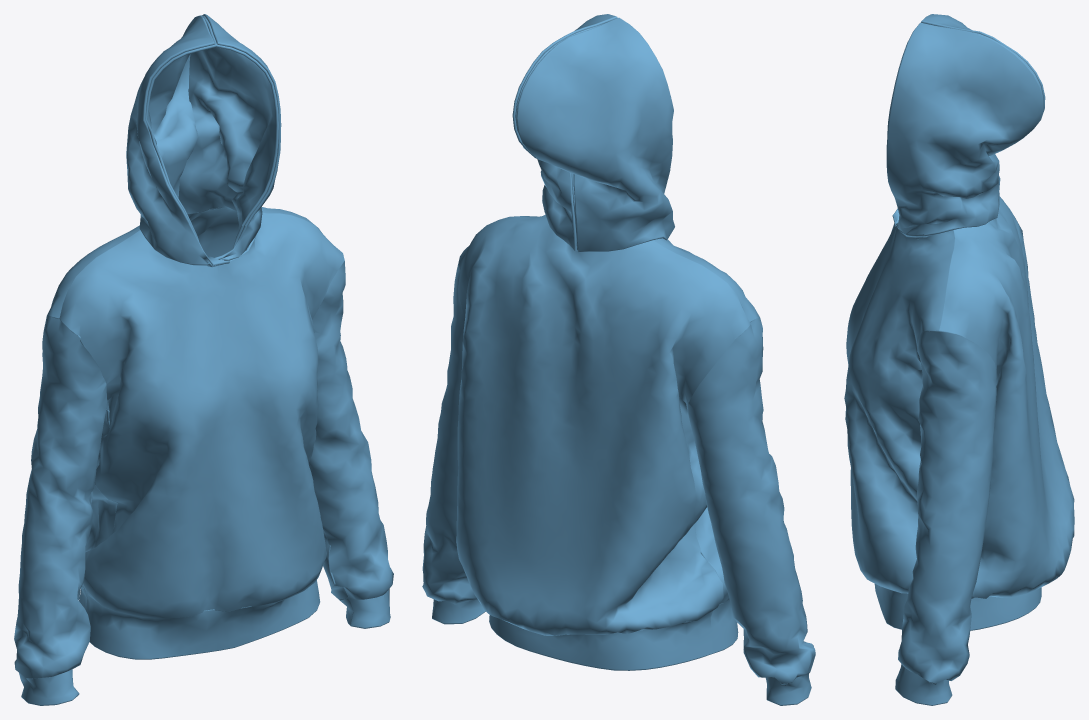
The picture shows the model from 3 angles, left to right: view 1: azimuth 30°, elevation 25°; view 2: azimuth 150°, elevation 25°; view 3: azimuth 270°, elevation 25°; orthographic projection. The views are drawn at different scales.
Parts seen in each view (by area): view 1: Pattern2D_96414, Pattern2D_94338, Pattern2D_3817911 (×2), Pattern2D_103204, Pattern2D_1315260 (×2), Pattern2D_3817910, Pattern2D_98031, Pattern2D_3742324, Pattern2D_3742323; view 2: Pattern2D_98031, Pattern2D_1315260, Pattern2D_94338, Pattern2D_3817910, Pattern2D_103204, Pattern2D_3817911, Pattern2D_96414, Pattern2D_3742324, Pattern2D_3742323; view 3: Pattern2D_98031, Pattern2D_96414, Pattern2D_3817911, Pattern2D_103204, Pattern2D_3817910, Pattern2D_3742323, Pattern2D_1315260.
Part boxes in pixels (x1,y1,x2,y2): Pattern2D_96414: [59, 212, 344, 618]; Pattern2D_94338: [14, 315, 107, 679]; Pattern2D_3817911 (×2): [178, 14, 281, 260]; Pattern2D_103204: [308, 255, 393, 600]; Pattern2D_1315260 (×2): [126, 15, 229, 266]; Pattern2D_3817910: [79, 580, 320, 659]; Pattern2D_98031: [47, 207, 322, 588]; Pattern2D_3742324: [19, 669, 79, 705]; Pattern2D_3742323: [340, 589, 390, 628]; Pattern2D_98031: [456, 215, 750, 635]; Pattern2D_1315260: [516, 17, 674, 251]; Pattern2D_94338: [687, 317, 815, 683]; Pattern2D_3817910: [489, 599, 738, 670]; Pattern2D_103204: [422, 261, 476, 604]; Pattern2D_3817911: [512, 14, 617, 251]; Pattern2D_96414: [520, 216, 759, 603]; Pattern2D_3742324: [765, 672, 811, 705]; Pattern2D_3742323: [432, 598, 485, 624]; Pattern2D_98031: [939, 196, 1074, 598]; Pattern2D_96414: [844, 223, 955, 593]; Pattern2D_3817911: [886, 22, 1043, 236]; Pattern2D_103204: [898, 330, 996, 683]; Pattern2D_3817910: [874, 584, 1041, 630]; Pattern2D_3742323: [895, 664, 952, 705]; Pattern2D_1315260: [892, 14, 1045, 226].
Size of the model in its own units: 56.74 by 90.31 by 31.26.
